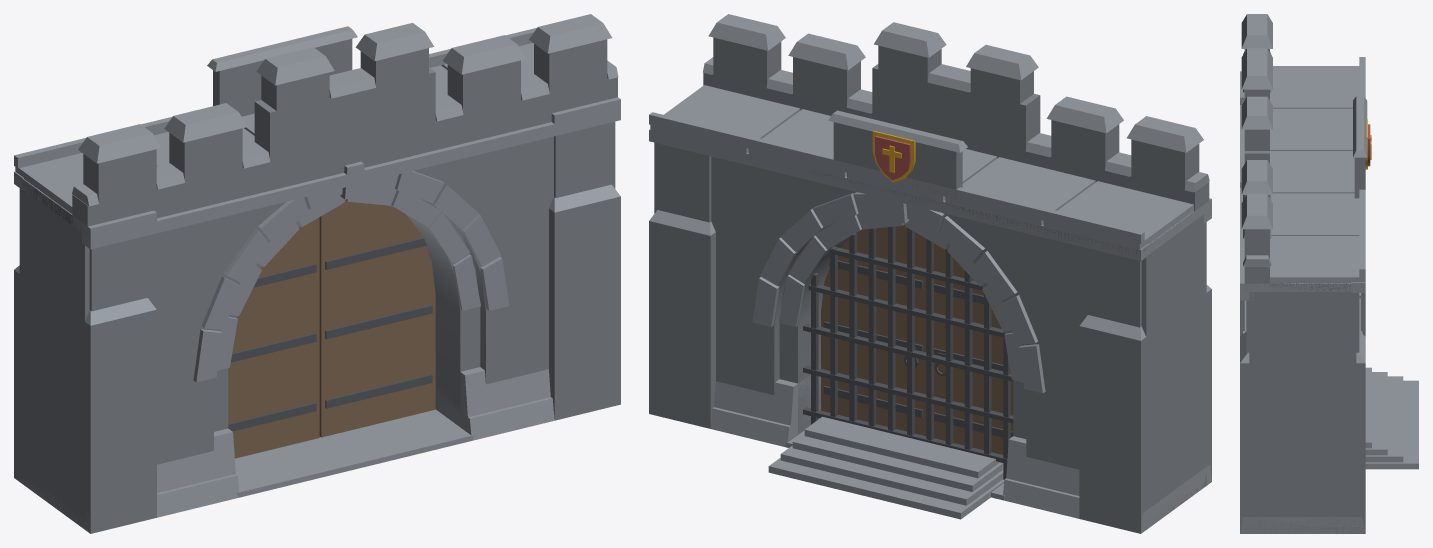
File: Wall_Gothic_GateArch.fbx
3 renders of one model, left to right at view 1: azimuth 30°, elevation 25°; view 2: azimuth 150°, elevation 25°; view 3: azimuth 270°, elevation 25°, orthographic. The views are drawn at different scales.
Parts seen in each view (by area): view 1: Wall_Gothic_GateArch_Hull_Stone, Wall_Gothic_GateArch_Hull_CapStone, Gate_Door_Right_Part_Timber, Wall_Gothic_GateArch_Detail_CapStone, Gate_Door_Left_Part_Timber, Gate_Door_Right_Part_Iron, Gate_Door_Left_Part_Iron; view 2: Wall_Gothic_GateArch_Hull_Stone, Wall_Gothic_GateArch_Hull_CapStone, Gate_Portcullis_Part_Iron, Wall_Gothic_GateArch_Detail_CapStone, Gate_StairThreshold_Part_CapStone, Gate_Door_Right_Part_Timber, Gate_Door_Left_Part_Timber, Gate_Door_Right_Part_Iron, Gate_Door_Left_Part_Iron, Gate_CrestShield_Part_Crimson, Gate_CrestShield_Part_Gold; view 3: Wall_Gothic_GateArch_Hull_Stone, Wall_Gothic_GateArch_Hull_CapStone, Gate_StairThreshold_Part_CapStone, Wall_Gothic_GateArch_Hull_Mortar.
Boxes of the visible parts, x1,y1,x2,y2 form: Wall_Gothic_GateArch_Hull_Stone: (14, 39, 620, 533); Wall_Gothic_GateArch_Hull_CapStone: (14, 14, 620, 533); Gate_Door_Right_Part_Timber: (319, 200, 435, 437); Wall_Gothic_GateArch_Detail_CapStone: (193, 161, 509, 382); Gate_Door_Left_Part_Timber: (228, 217, 319, 458); Gate_Door_Right_Part_Iron: (325, 237, 432, 408); Gate_Door_Left_Part_Iron: (228, 264, 316, 431); Wall_Gothic_GateArch_Hull_Stone: (649, 37, 1211, 533); Wall_Gothic_GateArch_Hull_CapStone: (649, 14, 1211, 533); Gate_Portcullis_Part_Iron: (803, 226, 1013, 479); Wall_Gothic_GateArch_Detail_CapStone: (752, 192, 1045, 393); Gate_StairThreshold_Part_CapStone: (768, 416, 1004, 519); Gate_Door_Right_Part_Timber: (821, 225, 926, 435); Gate_Door_Left_Part_Timber: (934, 243, 1013, 462); Gate_Door_Right_Part_Iron: (823, 260, 923, 417); Gate_Door_Left_Part_Iron: (934, 284, 1013, 437); Gate_CrestShield_Part_Crimson: (875, 136, 910, 180); Gate_CrestShield_Part_Gold: (872, 130, 915, 182); Wall_Gothic_GateArch_Hull_Stone: (1240, 49, 1365, 533); Wall_Gothic_GateArch_Hull_CapStone: (1240, 14, 1367, 533); Gate_StairThreshold_Part_CapStone: (1365, 367, 1418, 469); Wall_Gothic_GateArch_Hull_Mortar: (1270, 283, 1361, 291).
Bounding box in the file's own units: 32 × 24 × 11.4.
